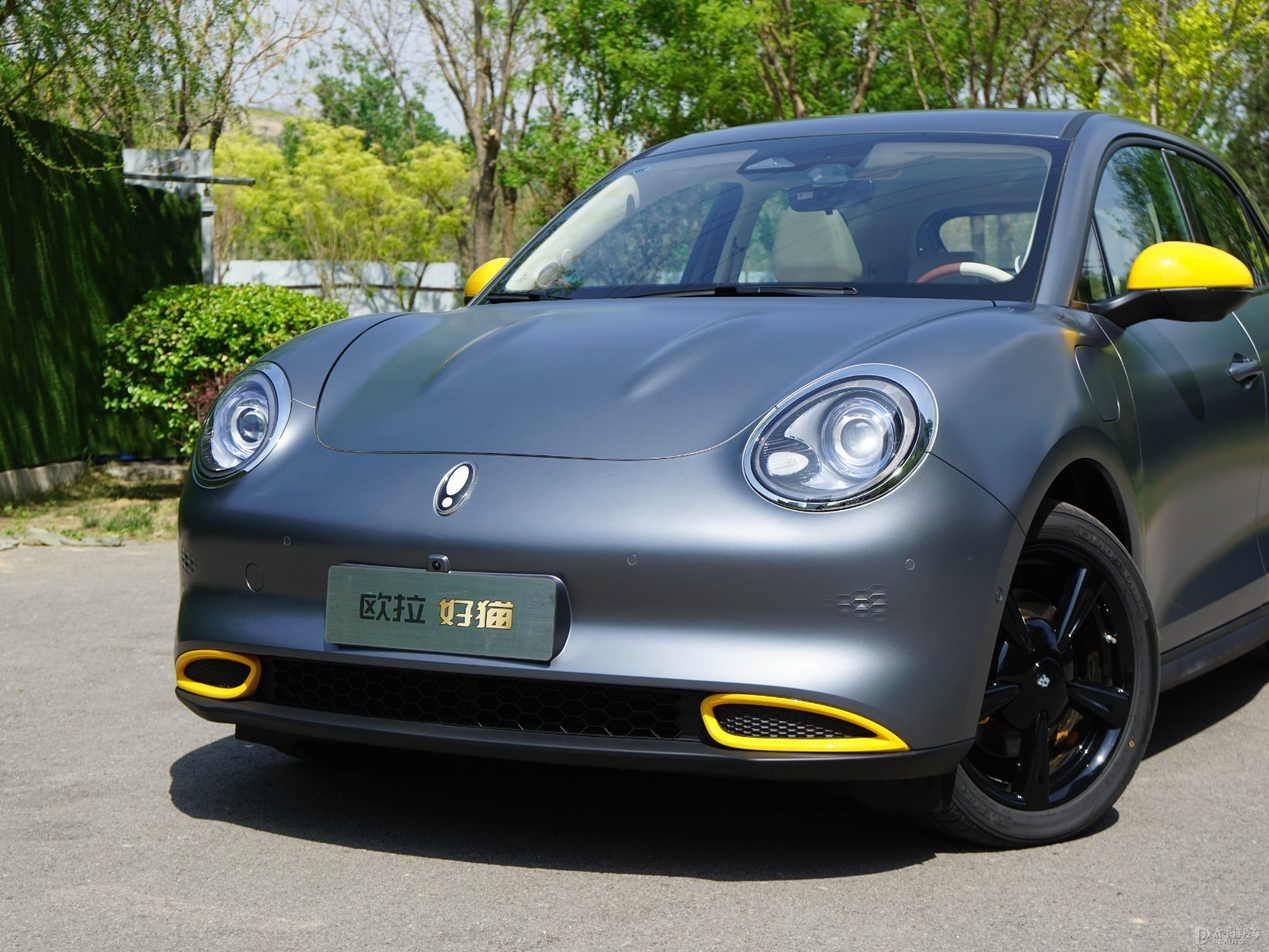ORA: (435, 463, 475, 515)
